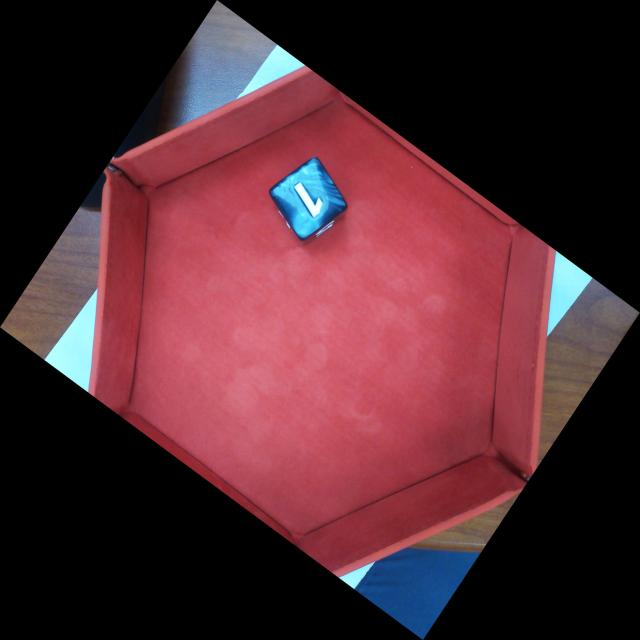dice: (274, 161, 345, 243)
